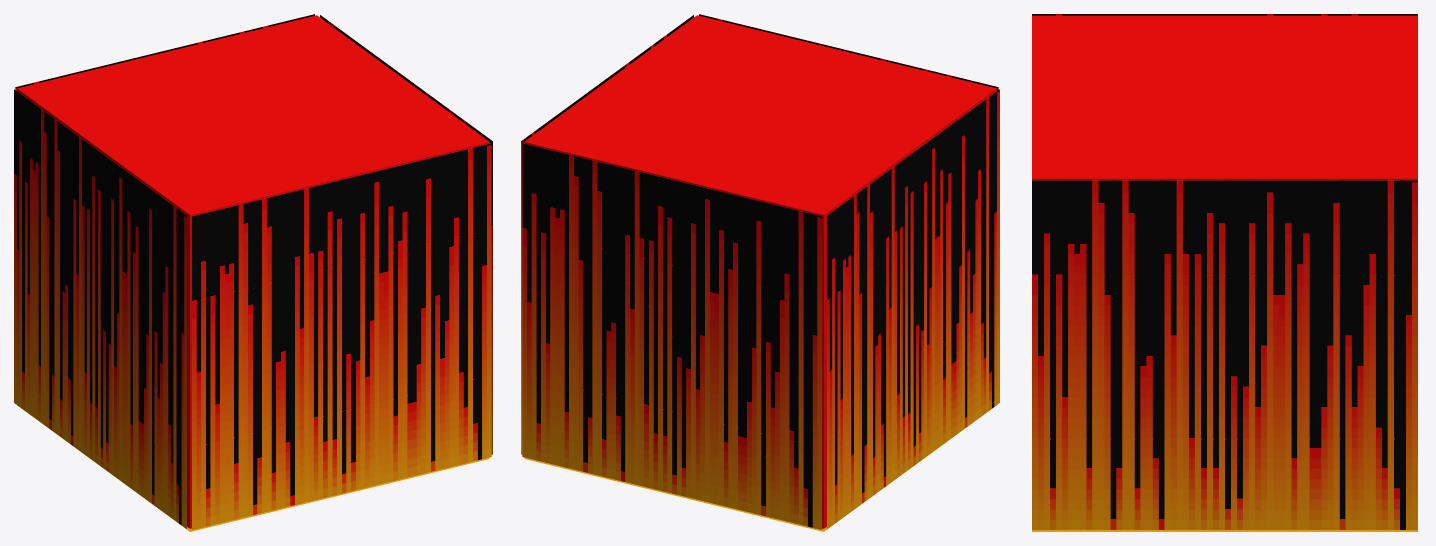
File: igniter.obj
3 renders of one model, left to right at view 1: azimuth 30°, elevation 25°; view 2: azimuth 150°, elevation 25°; view 3: azimuth 270°, elevation 25°, orthographic. The views are drawn at different scales.
Parts seen in each view (by area): view 1: Igniter4, Igniter5, Igniter1, Igniter3, Igniter6, Igniter2; view 2: Igniter2, Igniter5, Igniter1, Igniter3, Igniter6, Igniter4; view 3: Igniter3, Igniter1, Igniter5, Igniter6.
Part boxes in pixels (bbox=[...]): Igniter4: bbox=[192, 143, 491, 529]; Igniter5: bbox=[14, 89, 186, 528]; Igniter1: bbox=[17, 15, 489, 528]; Igniter3: bbox=[320, 15, 492, 454]; Igniter6: bbox=[17, 405, 489, 531]; Igniter2: bbox=[15, 14, 314, 90]; Igniter2: bbox=[522, 143, 821, 529]; Igniter5: bbox=[827, 89, 999, 528]; Igniter1: bbox=[524, 15, 996, 528]; Igniter3: bbox=[521, 15, 693, 454]; Igniter6: bbox=[524, 405, 996, 531]; Igniter4: bbox=[699, 14, 998, 90]; Igniter3: bbox=[1032, 180, 1417, 529]; Igniter1: bbox=[1032, 15, 1417, 180]; Igniter5: bbox=[1032, 14, 1417, 15]; Igniter6: bbox=[1032, 530, 1417, 531].
Bounding box in the file's own units: 2.04 × 2.02 × 2.04.
Materials: 4 (3 with a texture image).
